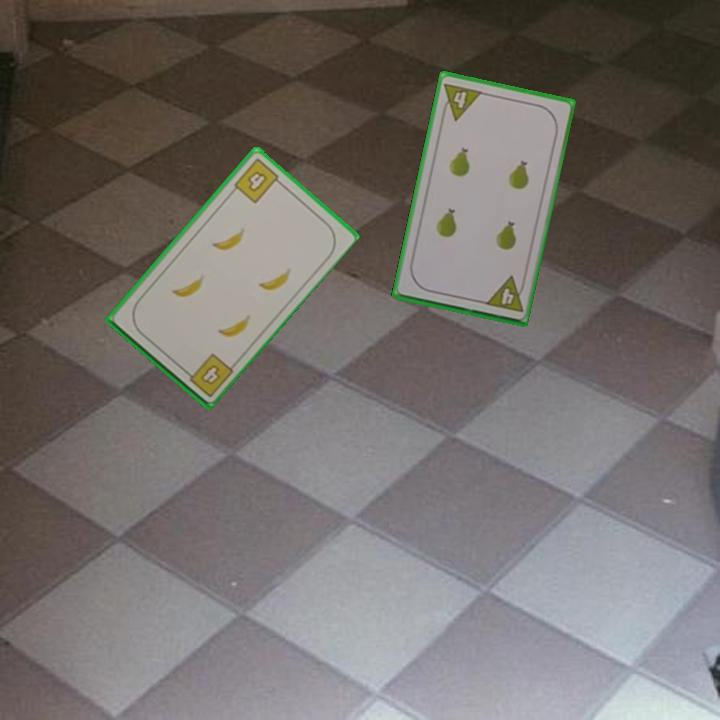4b: (230, 154, 285, 207), (180, 349, 236, 400)
4p: (437, 79, 485, 123), (481, 273, 528, 315)
